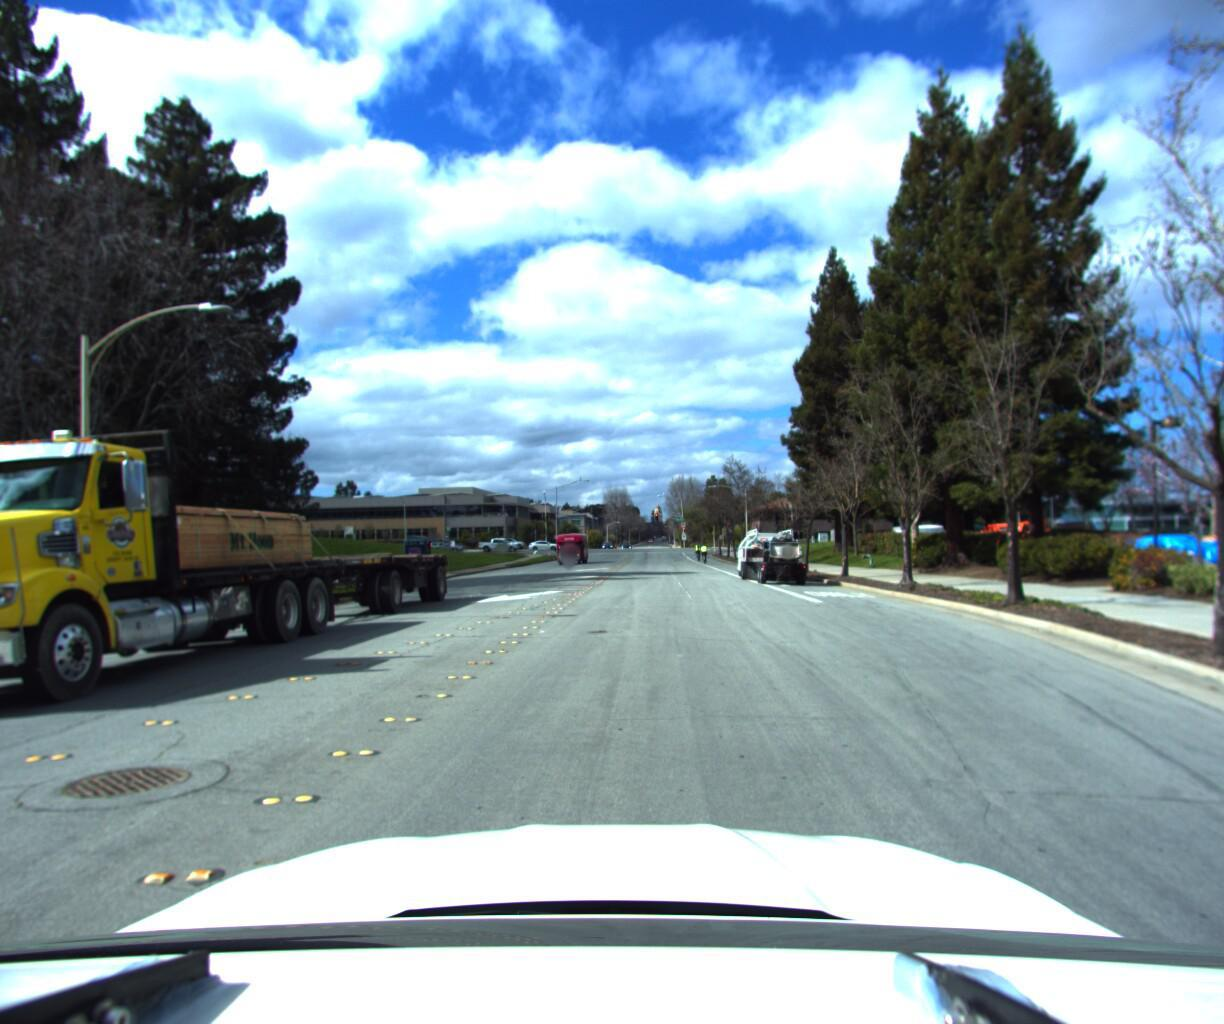bicycle: (697, 545, 707, 566), (691, 546, 700, 565)
bus: (552, 530, 591, 566)
truck: (0, 339, 456, 791), (723, 528, 825, 594)
